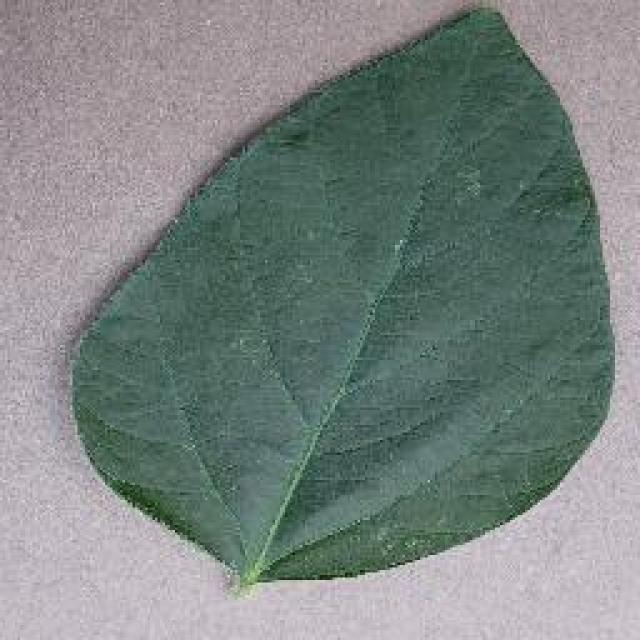Soy_healthy: (103, 77, 596, 510)
